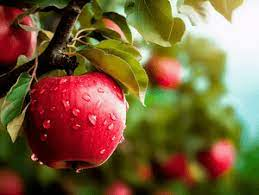Apple: (22, 70, 122, 172), (0, 4, 34, 64), (199, 137, 237, 177), (145, 50, 182, 90), (94, 10, 124, 39), (157, 149, 186, 178), (1, 164, 21, 194), (131, 158, 152, 181), (104, 177, 130, 195), (188, 159, 204, 186)
